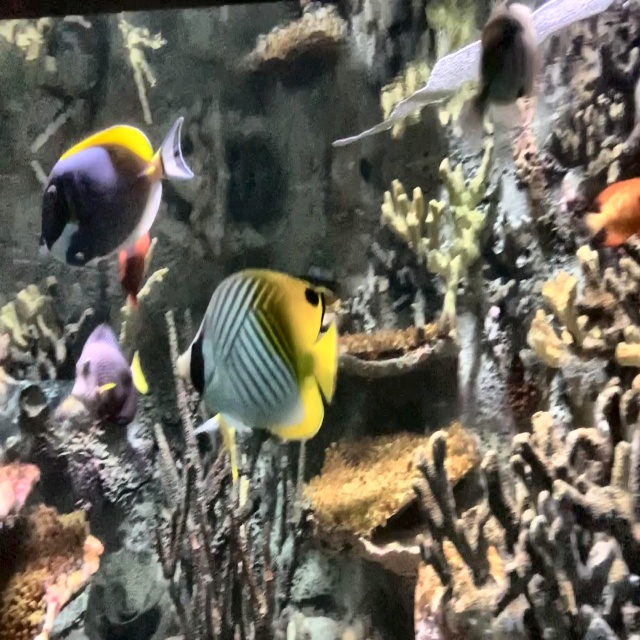fish: (176, 265, 338, 440), (40, 111, 194, 268), (70, 319, 152, 433), (581, 174, 639, 254)
